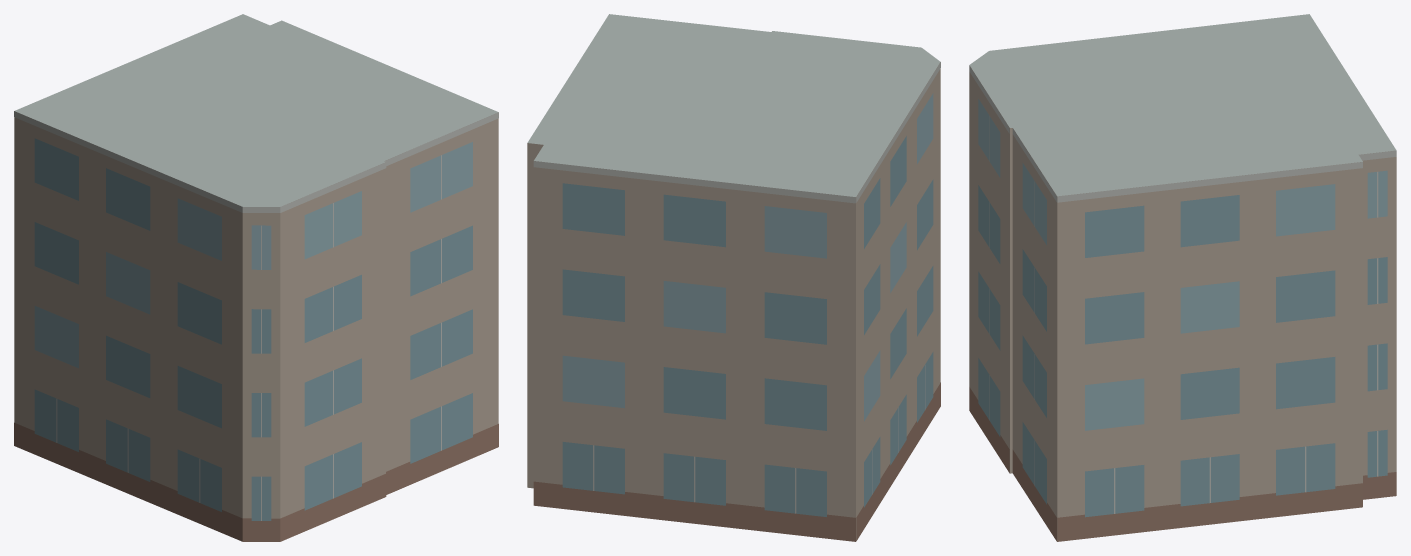
File: survey-upis-32703251.glb
3 renders of one model, left to right at view 1: azimuth 30°, elevation 25°; view 2: azimuth 150°, elevation 25°; view 3: azimuth 270°, elevation 25°, orthographic. The views are drawn at different scales.
Visible parts, largest first — view 1: survey-upis-32703251.tmp; view 2: survey-upis-32703251.tmp; view 3: survey-upis-32703251.tmp.
Part boxes in pixels (bbox=[...]): survey-upis-32703251.tmp: bbox=[14, 14, 498, 541]; survey-upis-32703251.tmp: bbox=[527, 14, 940, 541]; survey-upis-32703251.tmp: bbox=[969, 14, 1396, 541].
Bounding box in the file's own units: 15.07 × 13.3 × 14.92.
